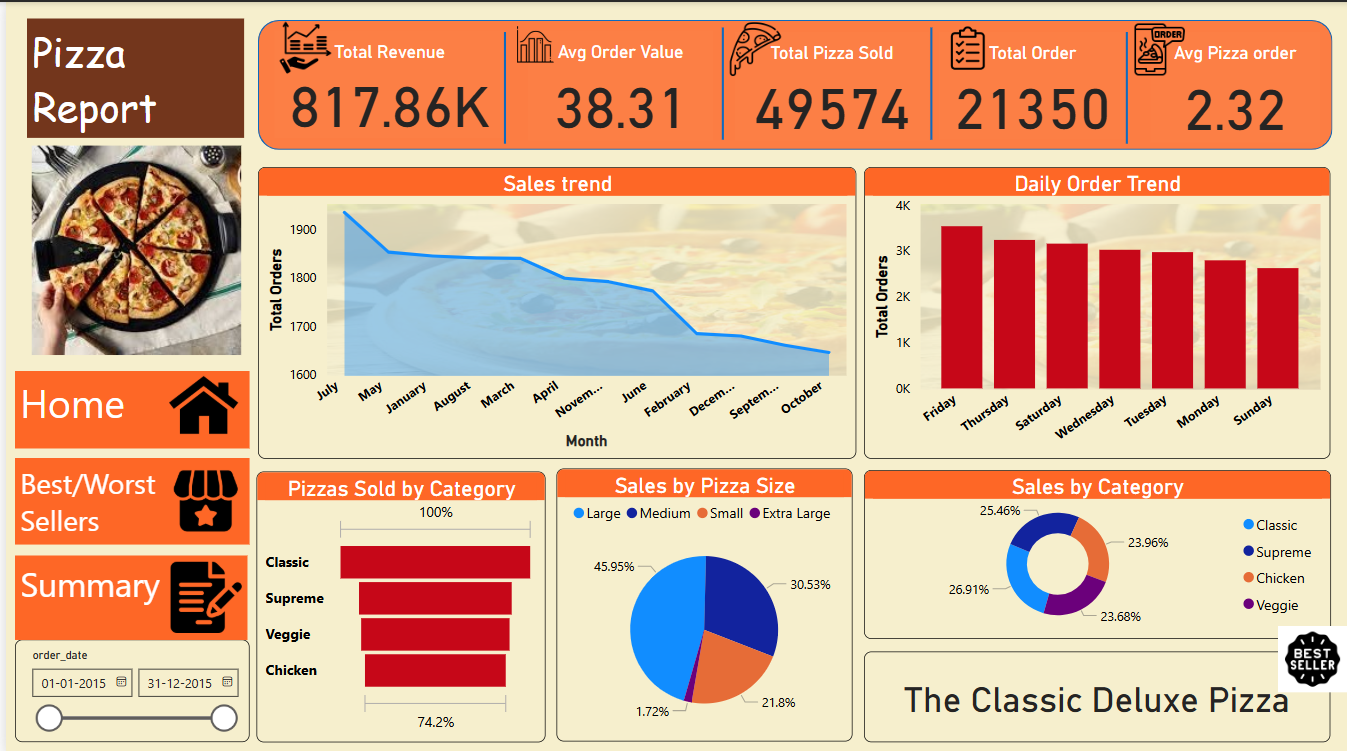

The dashboard page shown, as its layout file describes it:
{"tool":"powerbi","page":{"name":"Homepage","canvas":[1280,720],"ordinal":0},"visuals":[{"type":"clusteredColumnChart","title":"Daily Order Trend","fields":{"Y":["Measure.Total Orders"],"Category":["pizza_sales.Week day name"]},"box":[820,157.5,445,278.8],"z":0},{"type":"textbox","box":[8.7,528.3,221.7,80.4],"z":0,"group":"g3"},{"type":"areaChart","title":"Sales trend ","fields":{"Category":["pizza_sales.MonthName"],"Y":["Measure.Total Orders"]},"box":[240,157.5,571.2,278.8],"z":1000},{"type":"textbox","box":[8.7,434.8,223.9,82.6],"z":1000,"group":"g2"},{"type":"textbox","box":[8.7,352.2,223.9,73.9],"z":2000,"group":"g1"},{"type":"donutChart","title":"Sales by Category","fields":{"Y":["Measure.Total Sales"],"Category":["pizza_sales.pizza_category"]},"box":[820,447.1,445.7,161.4],"z":2000},{"type":"pieChart","title":"Sales by Pizza Size","fields":{"Y":["Measure.Total Sales"],"Category":["pizza_sales.Pizza Size Full"]},"box":[526.1,445.7,282.6,260.9],"z":3000},{"type":"card","fields":{"Values":["Min(pizza_sales.pizza_name)"]},"box":[820,620,445,86.7],"z":4000},{"type":"image","box":[8.3,131.7,231.7,210],"z":5000},{"type":"shape","box":[240,17.1,1025.7,124.3],"z":6000},{"type":"textbox","box":[20,15.7,207.1,114.3],"z":7000},{"type":"card","title":"Total Revenue","fields":{"Values":["Measure.Total Sales"]},"box":[255.7,27.1,220,102.9],"z":8000},{"type":"card","title":"Avg Order Value","fields":{"Values":["Measure.Average Order Value"]},"box":[498.3,26.7,176.7,105],"z":9000},{"type":"card","title":"Total Pizza Sold","fields":{"Values":["Measure.Total Pizzas Sold"]},"box":[696.7,28.3,185,103.3],"z":10000},{"type":"card","title":"Total Order","fields":{"Values":["Measure.Total Orders"]},"box":[891.4,28.6,178.6,102.9],"z":11000},{"type":"card","title":"Avg Pizza order","fields":{"Values":["Measure.avg order per pizza"]},"box":[1093.3,28.3,161.7,105],"z":12000},{"type":"shape","box":[423.3,28.3,105,106.7],"z":13000},{"type":"shape","box":[631.4,24.3,105.7,107.1],"z":14000},{"type":"shape","box":[831.4,24.3,105.7,107.1],"z":15000},{"type":"shape","box":[1016.7,28.3,106.7,106.7],"z":16000},{"type":"funnel","title":"Pizzas Sold by Category","fields":{"Y":["Measure.Total Pizzas Sold"],"Category":["pizza_sales.pizza_category"]},"box":[239.1,447.8,276.1,258.7],"z":17000},{"type":"image","box":[255,8.3,61.7,70],"z":18000},{"type":"image","box":[685,10,61.7,70],"z":19000},{"type":"image","box":[891.7,10,51.7,68.3],"z":20000},{"type":"image","box":[1070,15,63.3,61.7],"z":21000},{"type":"image","box":[483.3,16.7,45,46.7],"z":22000},{"type":"slicer","fields":{"Values":["pizza_sales.order_date"]},"box":[8.7,608.7,223.9,97.8],"z":23000},{"type":"image","box":[1215.2,584.8,65.2,73.9],"z":24000},{"type":"group","id":"g1","title":"Group 1","box":[8.7,343.5,223.9,82.6],"z":25000},{"type":"image","box":[150,343.5,76.1,82.6],"z":26000,"group":"g1"},{"type":"group","id":"g2","title":"Group 2","box":[8.7,434.8,223.9,82.6],"z":26000},{"type":"image","box":[150,434.8,80.4,82.6],"z":27000,"group":"g2"},{"type":"group","id":"g3","title":"Group 3","box":[8.7,528.3,221.7,80.4],"z":27000},{"type":"image","box":[152.2,528.3,78.3,80.4],"z":28000,"group":"g3"}]}

Visuals, with their boxes in screenshot pixels (x1, y1, x2, y2), scaled from the page's 1280x720 canvas onto the 1347x751 screenshot:
"Daily Order Trend" clusteredColumnChart: <region>863, 164, 1331, 455</region>
textbox: <region>9, 551, 242, 635</region>
"Sales trend " areaChart: <region>253, 164, 854, 455</region>
textbox: <region>9, 454, 245, 540</region>
textbox: <region>9, 367, 245, 444</region>
"Sales by Category" donutChart: <region>863, 466, 1332, 635</region>
"Sales by Pizza Size" pieChart: <region>554, 465, 851, 737</region>
card - Min(pizza_sales.pizza_name): <region>863, 647, 1331, 737</region>
image: <region>9, 137, 253, 356</region>
shape: <region>253, 18, 1332, 147</region>
textbox: <region>21, 16, 239, 136</region>
"Total Revenue" card: <region>269, 28, 501, 136</region>
"Avg Order Value" card: <region>524, 28, 710, 137</region>
"Total Pizza Sold" card: <region>733, 30, 928, 137</region>
"Total Order" card: <region>938, 30, 1126, 137</region>
"Avg Pizza order" card: <region>1151, 30, 1321, 139</region>
shape: <region>445, 30, 556, 141</region>
shape: <region>664, 25, 776, 137</region>
shape: <region>875, 25, 986, 137</region>
shape: <region>1070, 30, 1182, 141</region>
"Pizzas Sold by Category" funnel: <region>252, 467, 542, 737</region>
image: <region>268, 9, 333, 82</region>
image: <region>721, 10, 786, 83</region>
image: <region>938, 10, 993, 82</region>
image: <region>1126, 16, 1193, 80</region>
image: <region>509, 17, 556, 66</region>
slicer - pizza_sales.order_date: <region>9, 635, 245, 737</region>
image: <region>1279, 610, 1346, 687</region>
"Group 1" group: <region>9, 358, 245, 444</region>
image: <region>158, 358, 238, 444</region>
"Group 2" group: <region>9, 454, 245, 540</region>
image: <region>158, 454, 242, 540</region>
"Group 3" group: <region>9, 551, 242, 635</region>
image: <region>160, 551, 243, 635</region>
